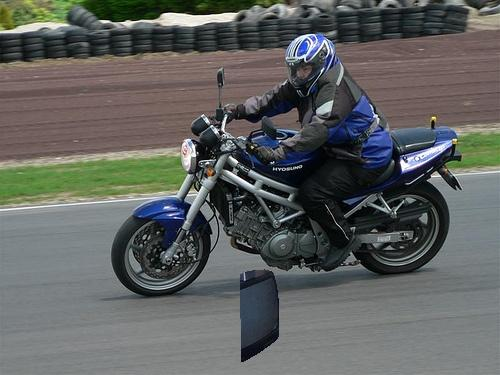tampered: (241, 270, 279, 362)
